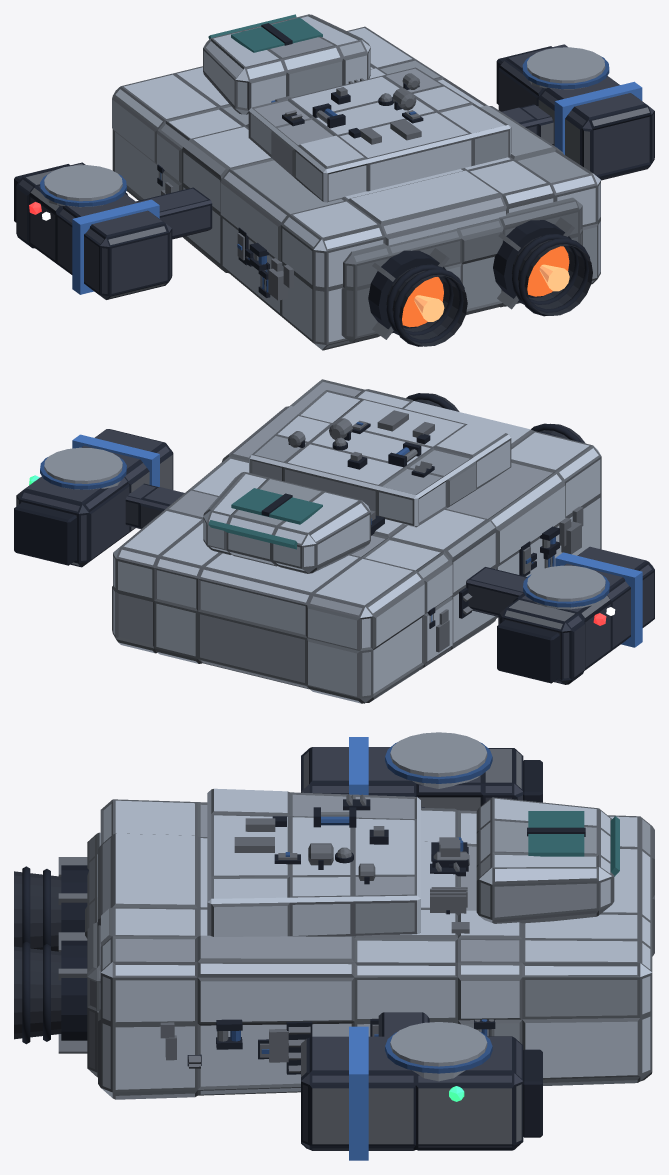
File: wren.glb
3 views of the same model, one above another, from view 1: azimuth 30°, elevation 25°; view 2: azimuth 150°, elevation 25°; view 3: azimuth 270°, elevation 25° (orthographic). The views are drawn at different scales.
Visible parts, largest first — view 1: wren_mesh; view 2: wren_mesh; view 3: wren_mesh.
Boxes of the visible parts, <box> form: wren_mesh: <box>14,14,654,350</box>; wren_mesh: <box>14,379,654,703</box>; wren_mesh: <box>14,732,654,1160</box>.
Bounding box in the file's own units: 9.18 × 2.68 × 7.2.
